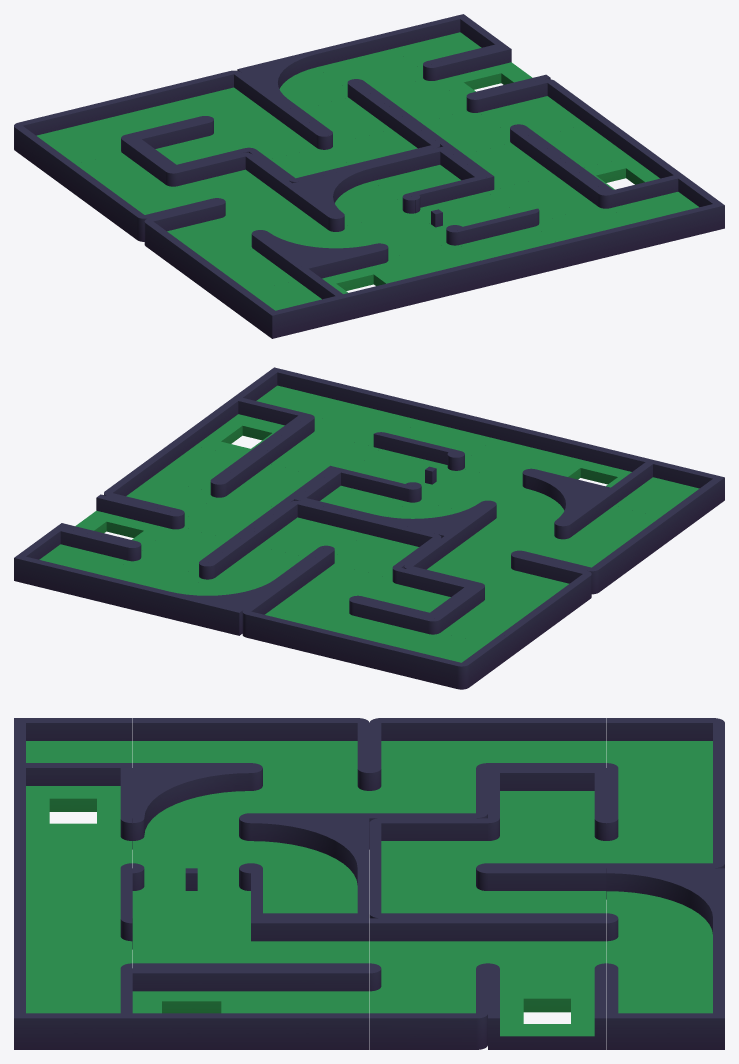
File: level_1.glb
3 views of the same model, one above another, from view 1: azimuth 30°, elevation 25°; view 2: azimuth 150°, elevation 25°; view 3: azimuth 270°, elevation 25° (orthographic). The views are drawn at different scales.
Parts seen in each view (by area): view 1: mergedBlocks(Clone); view 2: mergedBlocks(Clone); view 3: mergedBlocks(Clone).
Boxes of the visible parts, x1,y1,x2,y2 form: mergedBlocks(Clone): [14, 14, 724, 338]; mergedBlocks(Clone): [14, 367, 724, 689]; mergedBlocks(Clone): [14, 718, 724, 1049].
Bounding box in the file's own units: 6 × 0.2933 × 6.
1 material, 1 textured.
